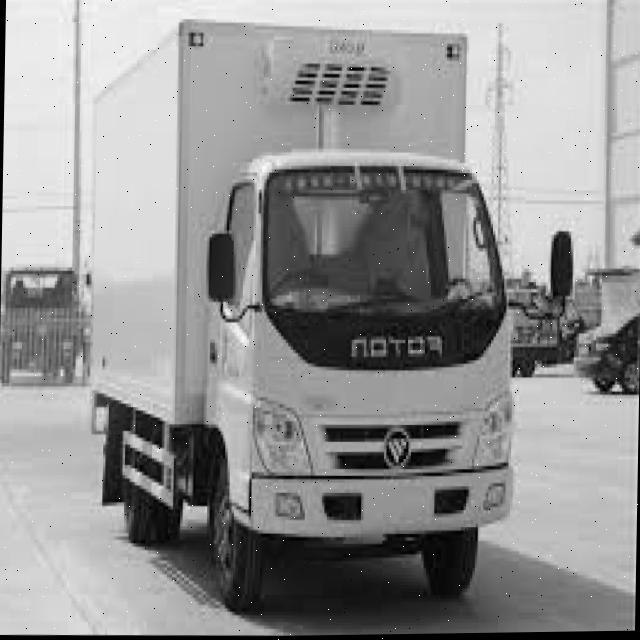truck: (184, 110, 588, 633)
